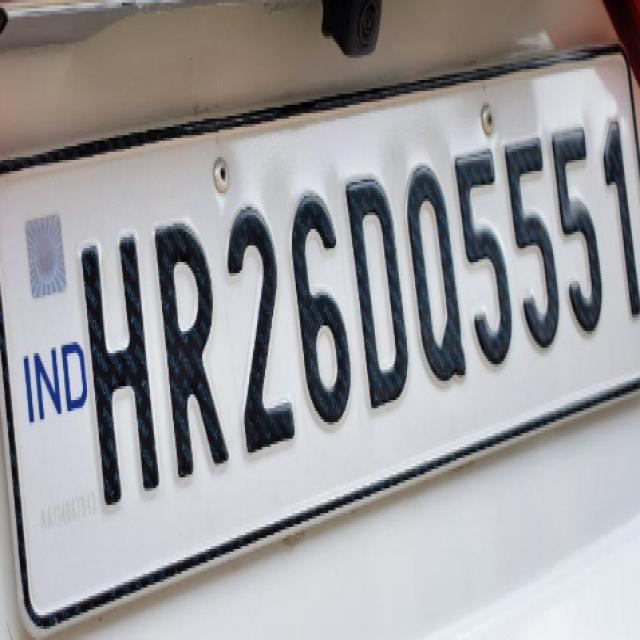1: (593, 105, 640, 332)
5: (449, 141, 520, 373), (498, 130, 569, 359), (547, 116, 612, 346)
6: (277, 169, 362, 445)
D: (337, 160, 419, 427)
H: (75, 215, 164, 519)
Q: (394, 155, 475, 399)
R: (147, 201, 235, 491)
